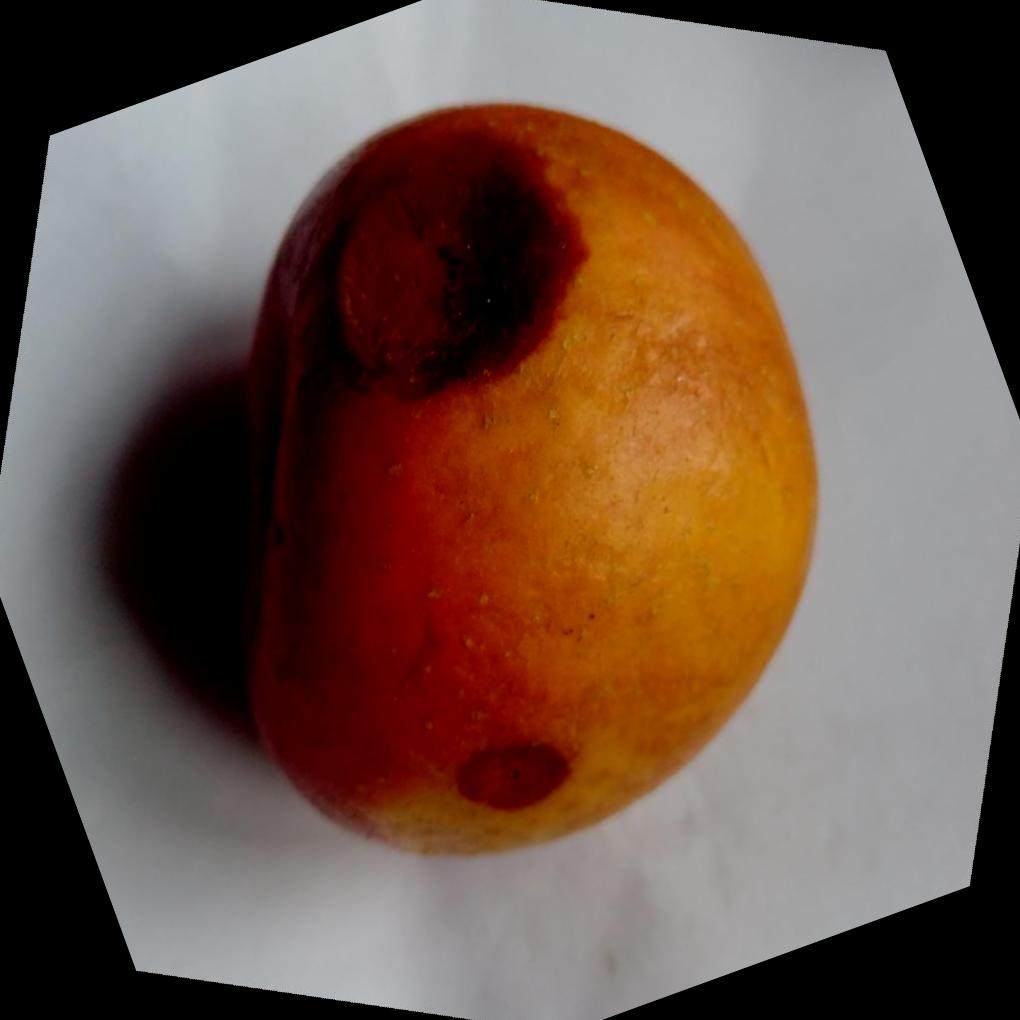FreshOrange: (230, 100, 817, 861)
